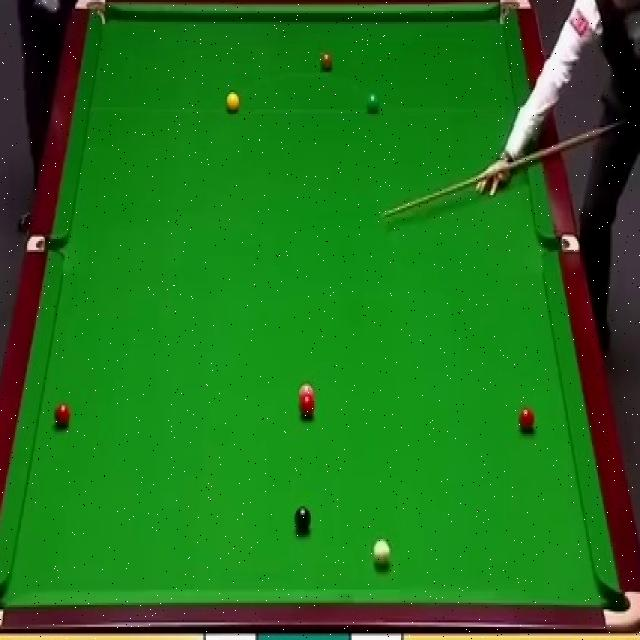black-ball: (294, 506, 312, 535)
brown-ball: (320, 51, 333, 73)
green-ball: (365, 91, 379, 114)
pink-ball: (298, 384, 315, 399)
red-ball: (54, 400, 72, 430), (518, 405, 535, 433), (298, 396, 316, 419)
white-ball: (371, 535, 390, 563)
yellow-ball: (228, 93, 242, 115)
